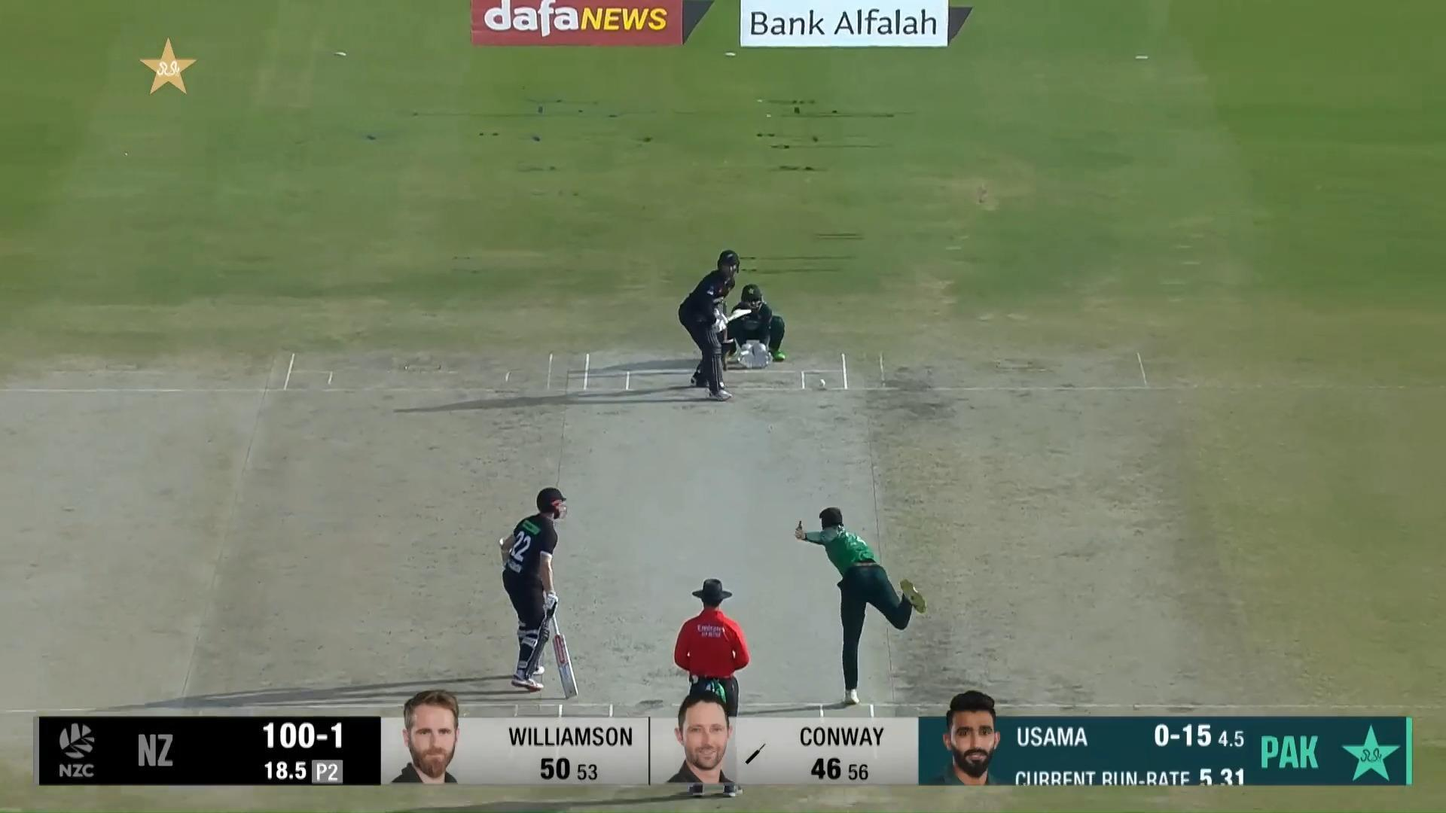BM 1: (677, 249, 754, 402)
BO: (793, 505, 928, 708)
